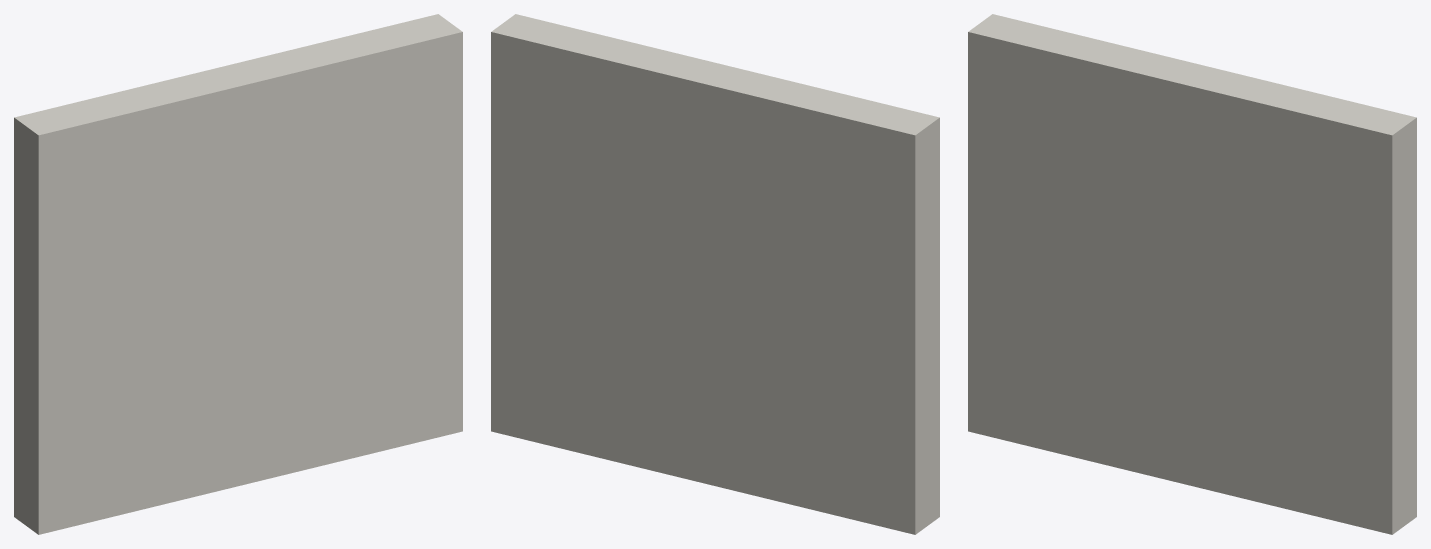
File: OA_Wall_Half_2m.fbx
3 views of the same model, side by side, from view 1: azimuth 30°, elevation 25°; view 2: azimuth 150°, elevation 25°; view 3: azimuth 330°, elevation 25° (orthographic).
Visible parts, largest first — view 1: OA_Wall_Half_2m; view 2: OA_Wall_Half_2m; view 3: OA_Wall_Half_2m.
Part boxes in pixels (<box>): OA_Wall_Half_2m: <box>14,14,462,534</box>; OA_Wall_Half_2m: <box>491,14,939,534</box>; OA_Wall_Half_2m: <box>968,14,1416,534</box>.
Bounding box in the file's own units: 2 × 1.8 × 0.2.
Materials: 1 (1 with a texture image).
